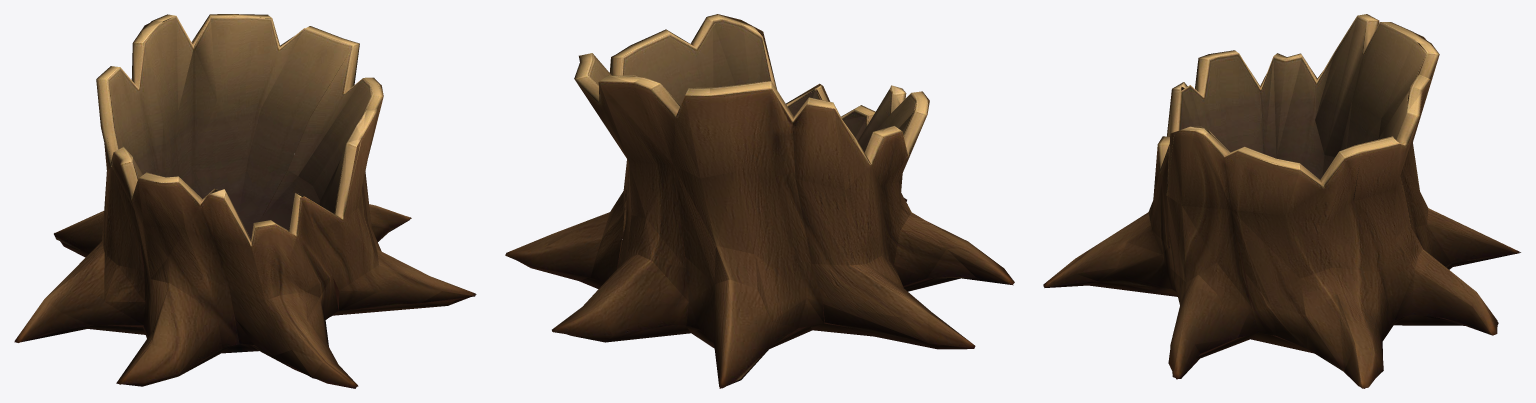
File: Bark02.fbx
The picture shows the model from 3 angles, left to right: view 1: azimuth 30°, elevation 25°; view 2: azimuth 150°, elevation 25°; view 3: azimuth 270°, elevation 25°; orthographic projection. The views are drawn at different scales.
Visible parts, largest first — view 1: Bark02; view 2: Bark02; view 3: Bark02.
Part boxes in pixels (box(x1,y1,x2,y2)): Bark02: box(14, 14, 476, 388); Bark02: box(505, 14, 1014, 388); Bark02: box(1043, 14, 1520, 388).
Bounding box in the file's own units: 680 × 368 × 656.
1 material, 1 textured.
